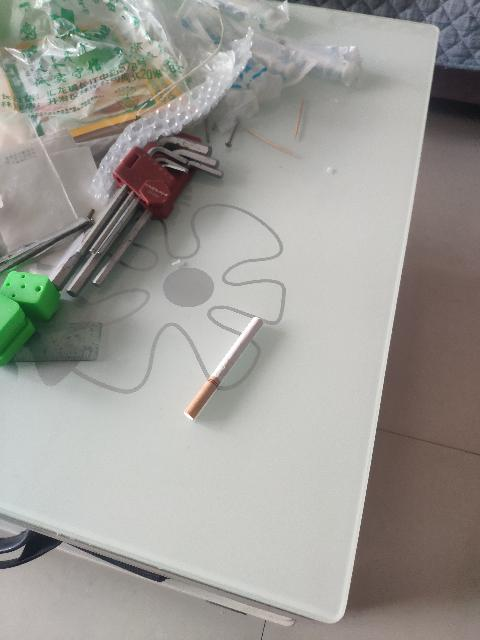Cigarette: (184, 318, 264, 420)
